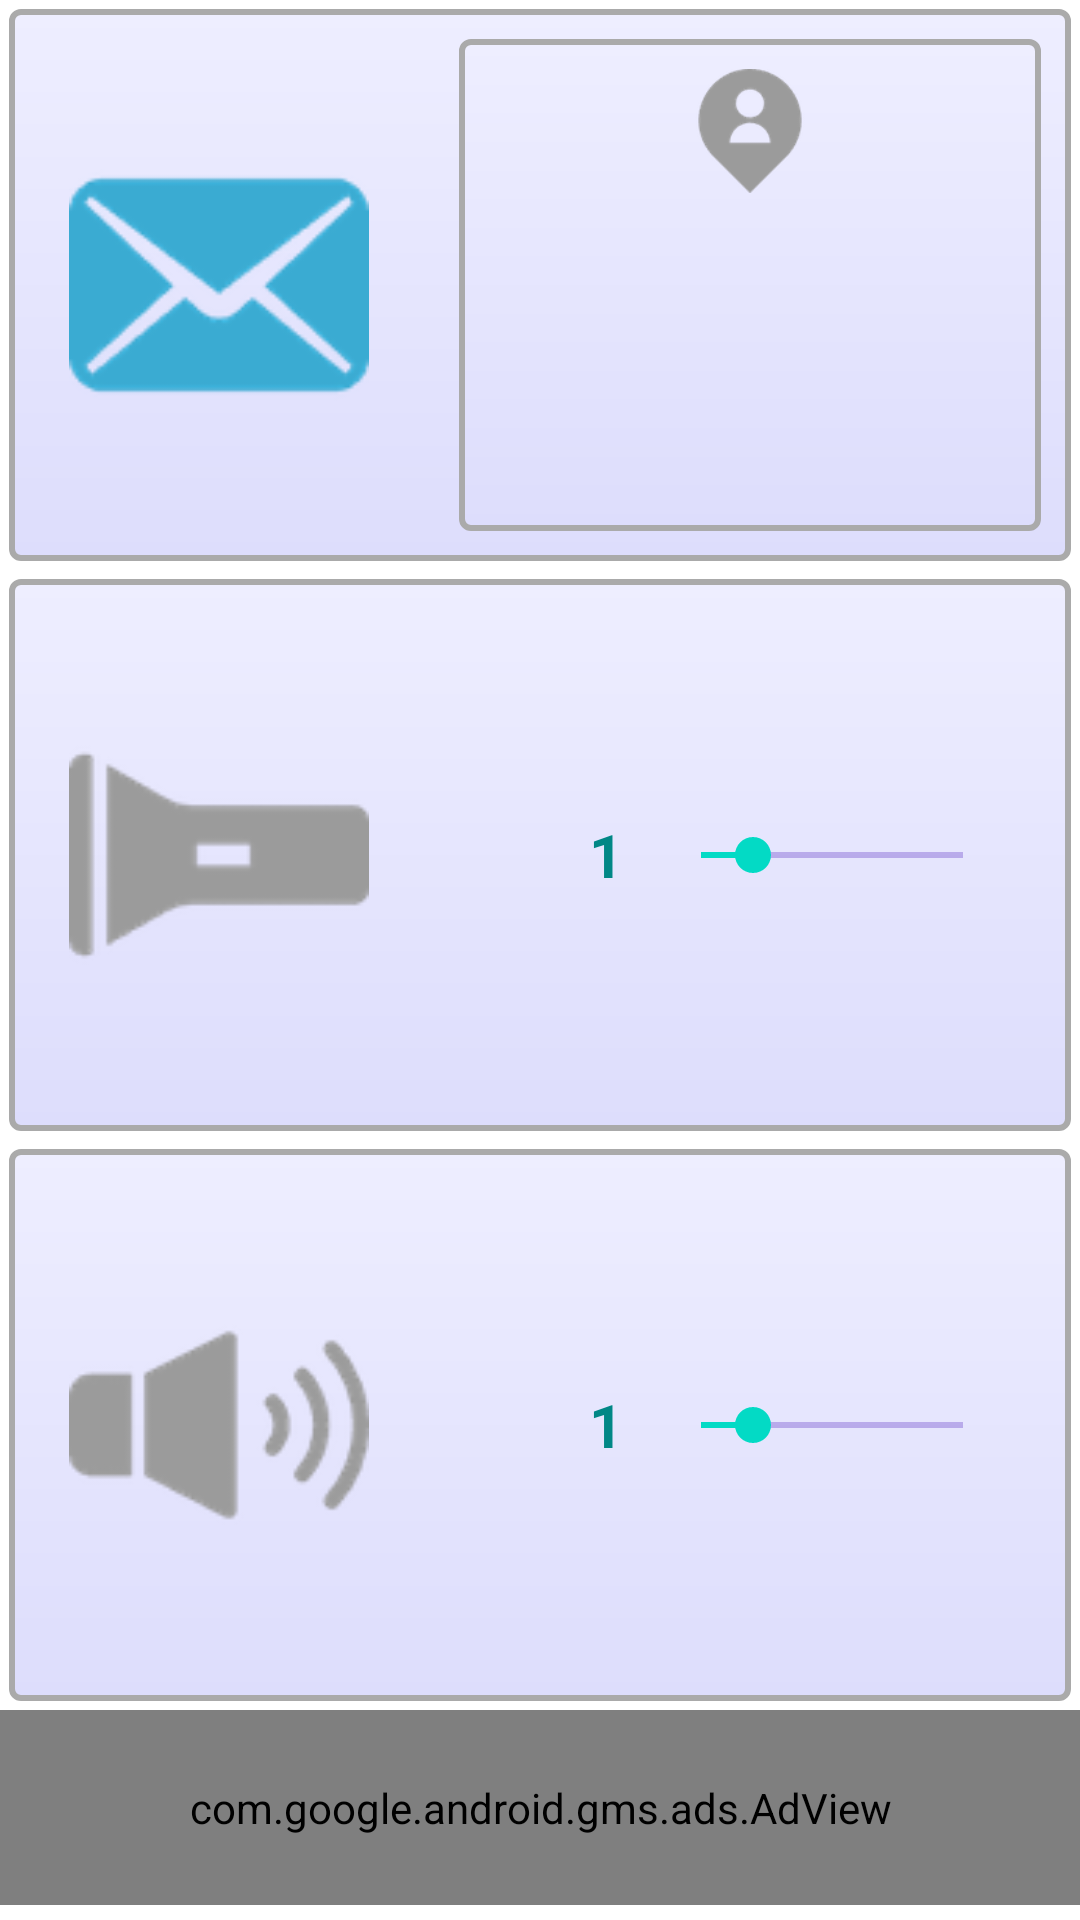

Icon click points for this 1080x1920 phone screenshot, format (x=x, y=y):
mail: (x=219, y=285)
